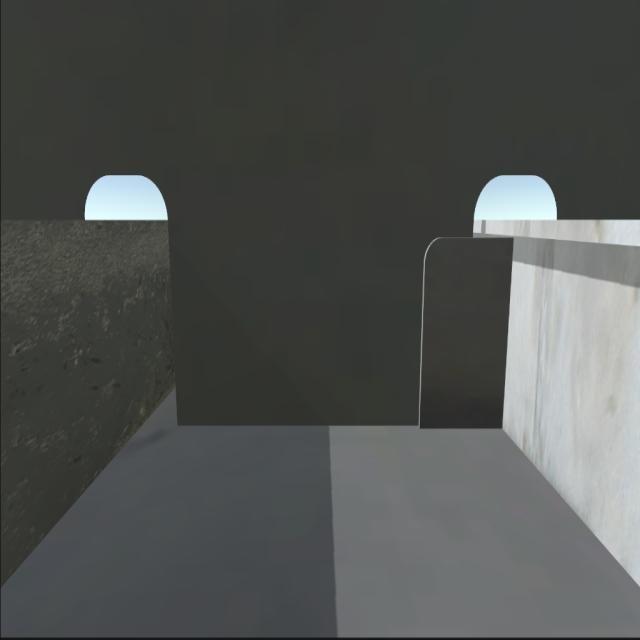fillet_yong_jeop_jang: (176, 411, 507, 445)
longi_yong_jeop_jang: (498, 232, 526, 432)
plate_CP05: (420, 238, 513, 430)
